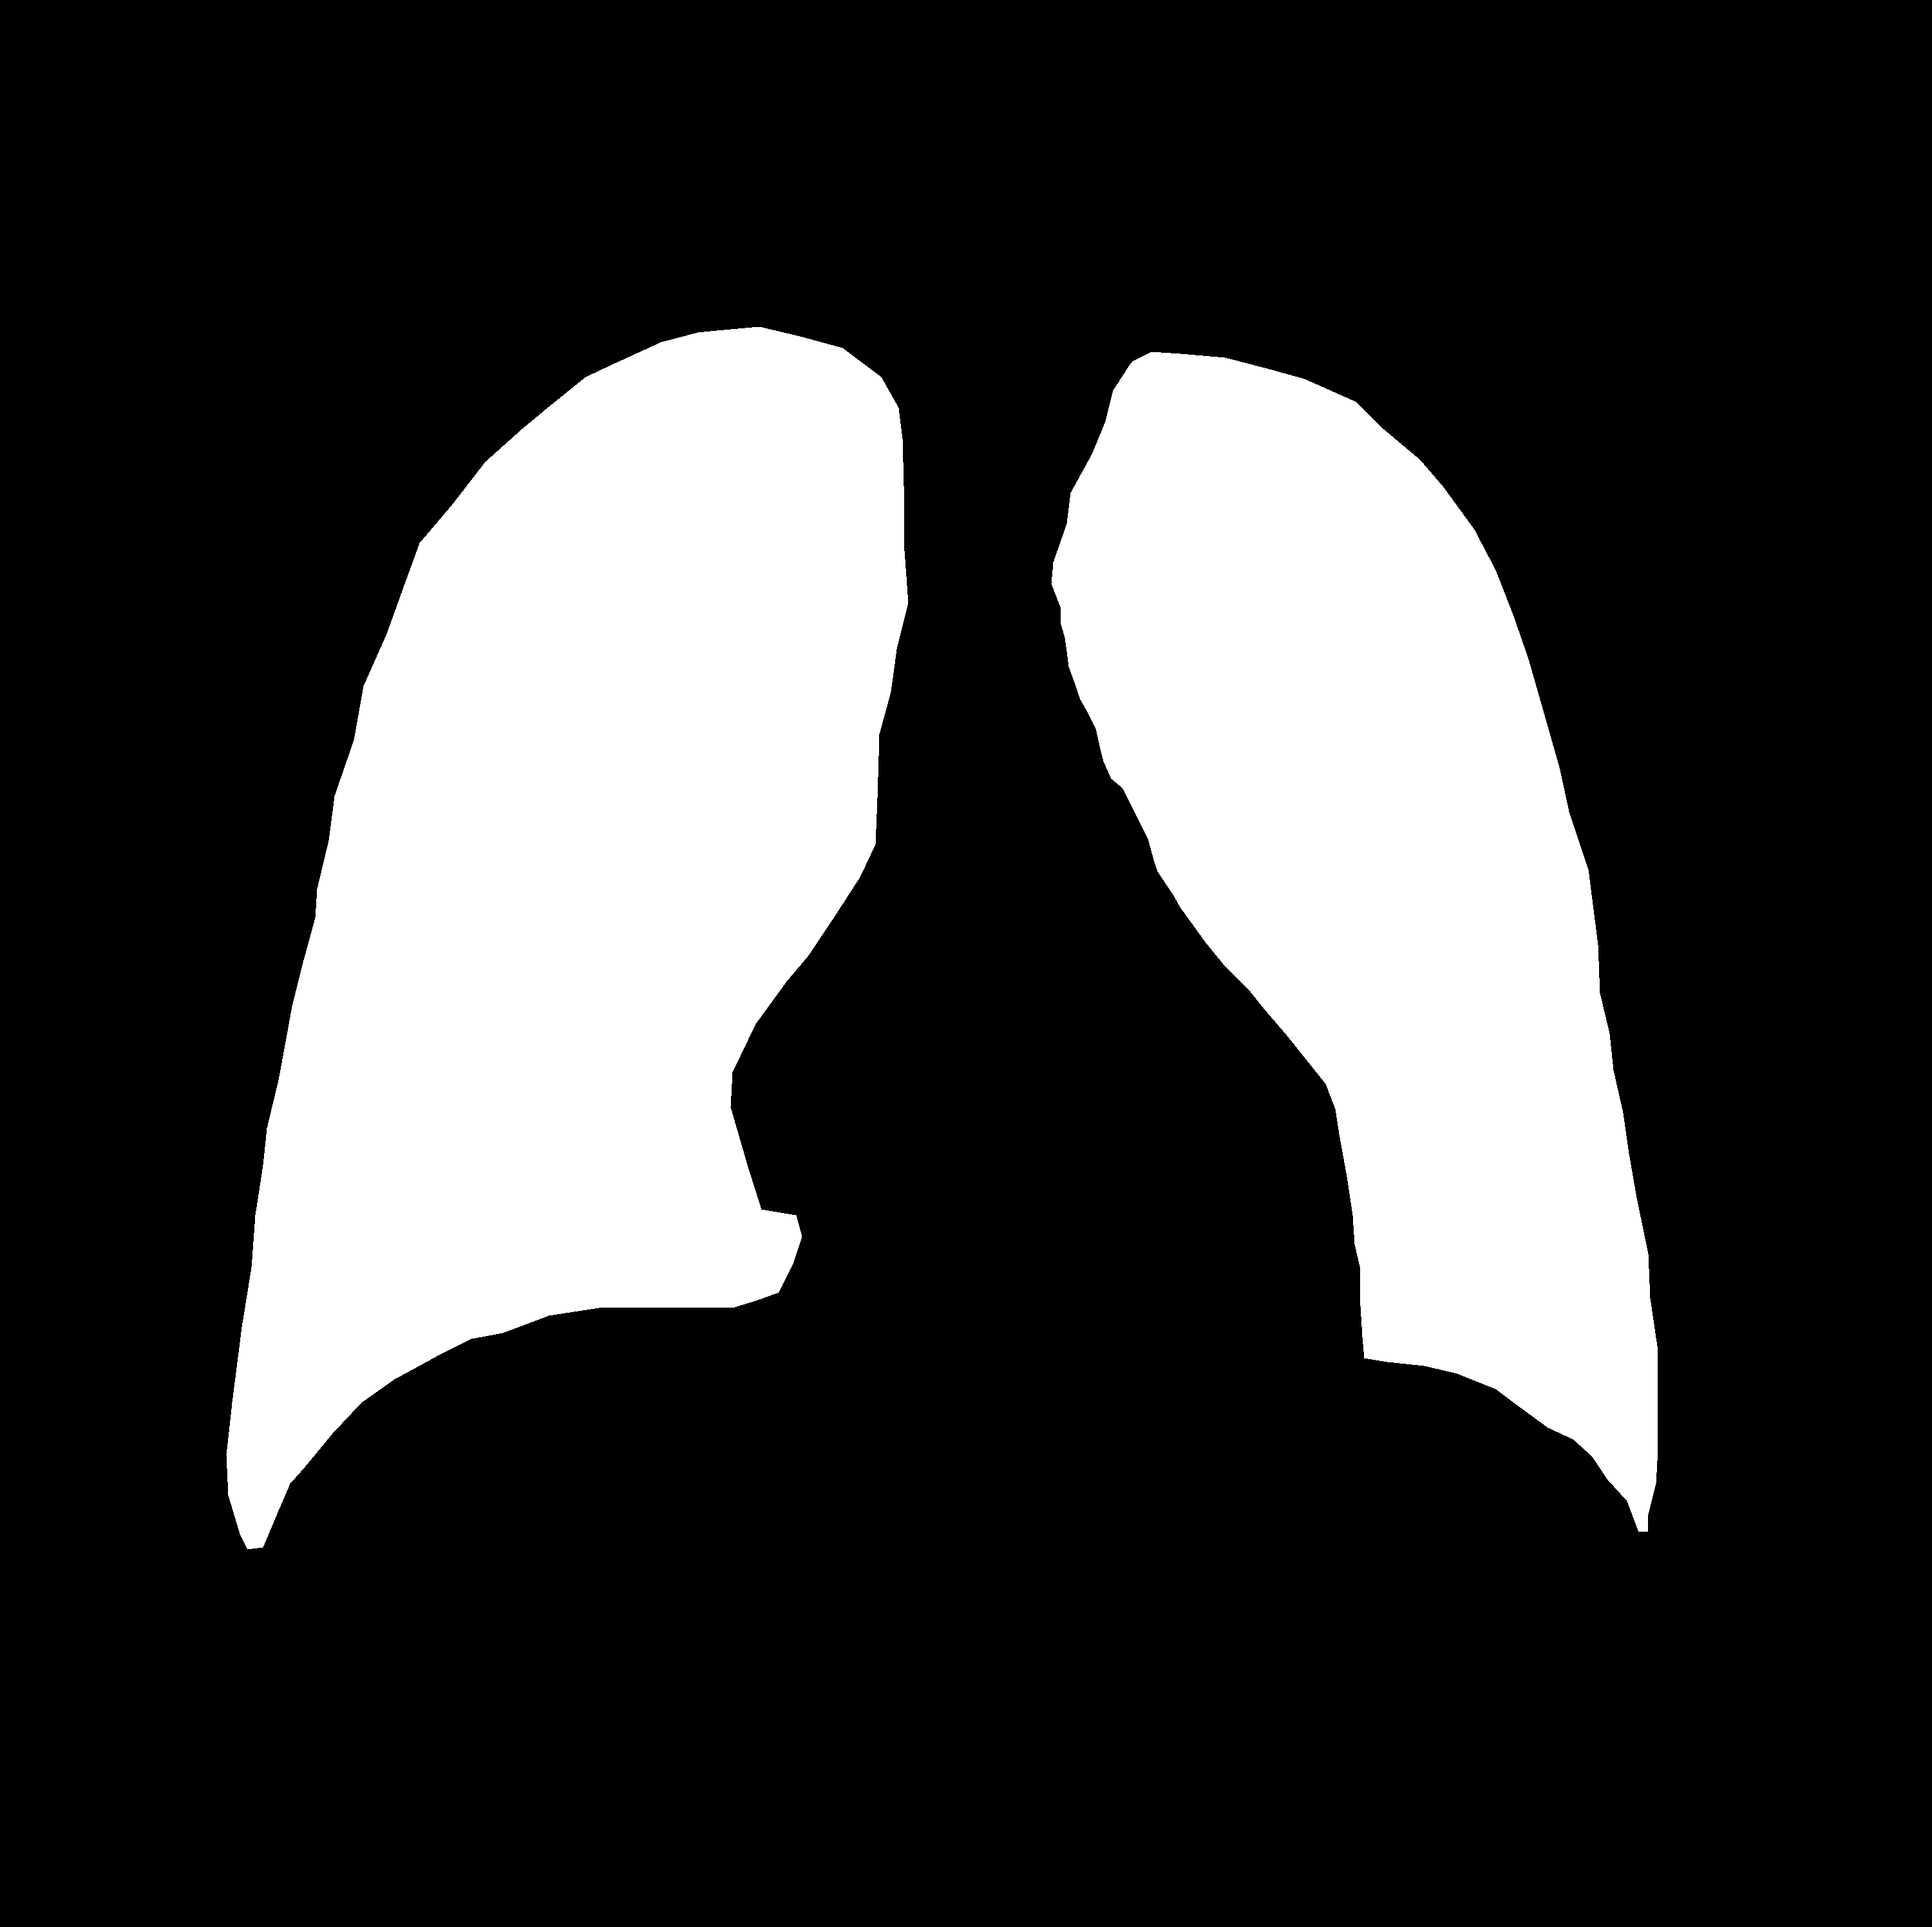heart: (734, 972, 1364, 1371)
left_lung: (236, 326, 907, 1558)
right_lung: (1052, 353, 1655, 1556)
